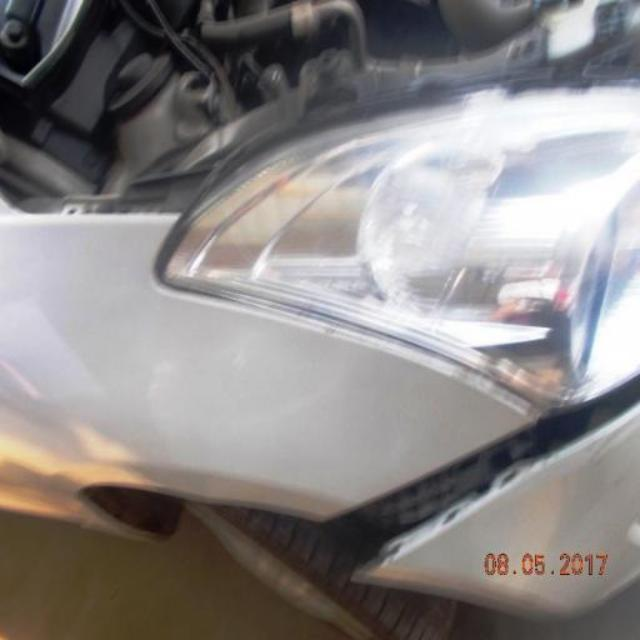dislocated part: (323, 370, 640, 579)
